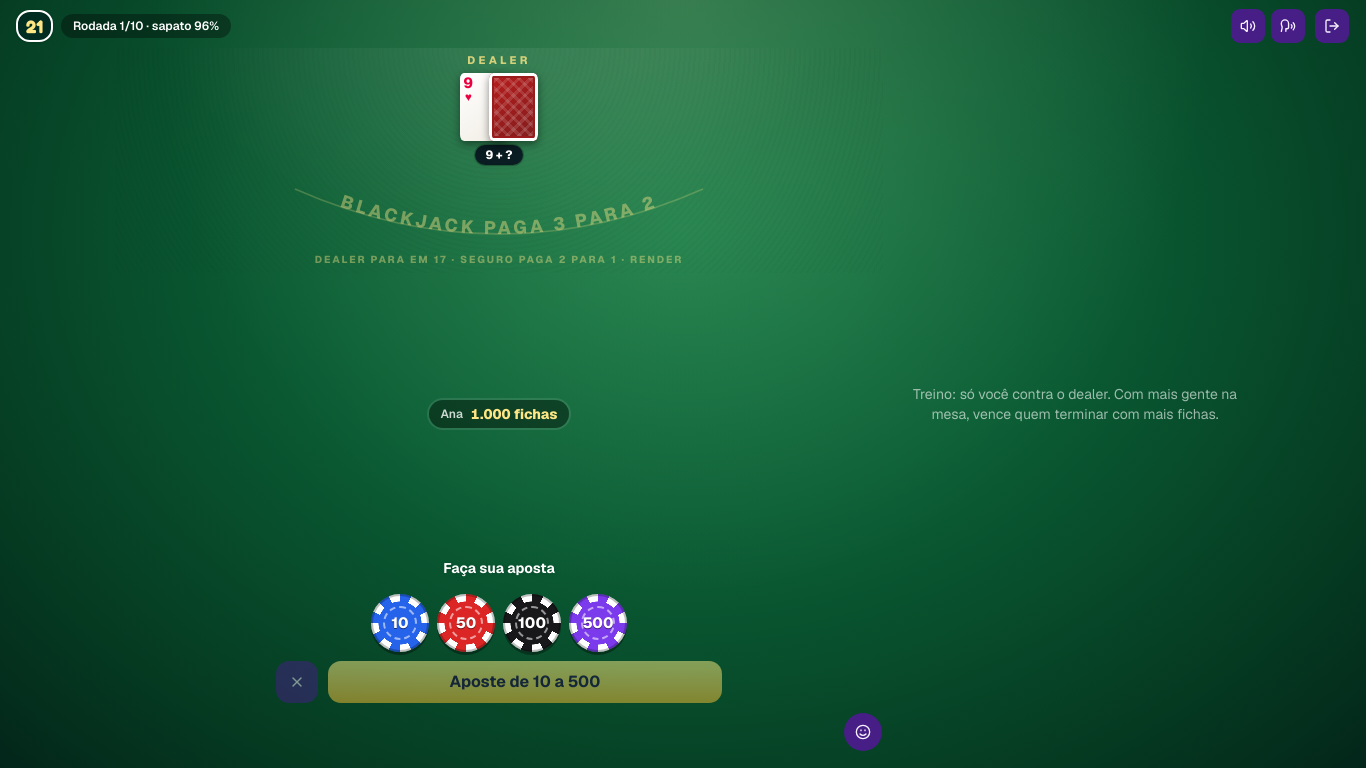
Test case: TableView › caps the bet at the table limit
Click the button named "Somar 500" at coordinates (598, 623), box [569,594,627,652]
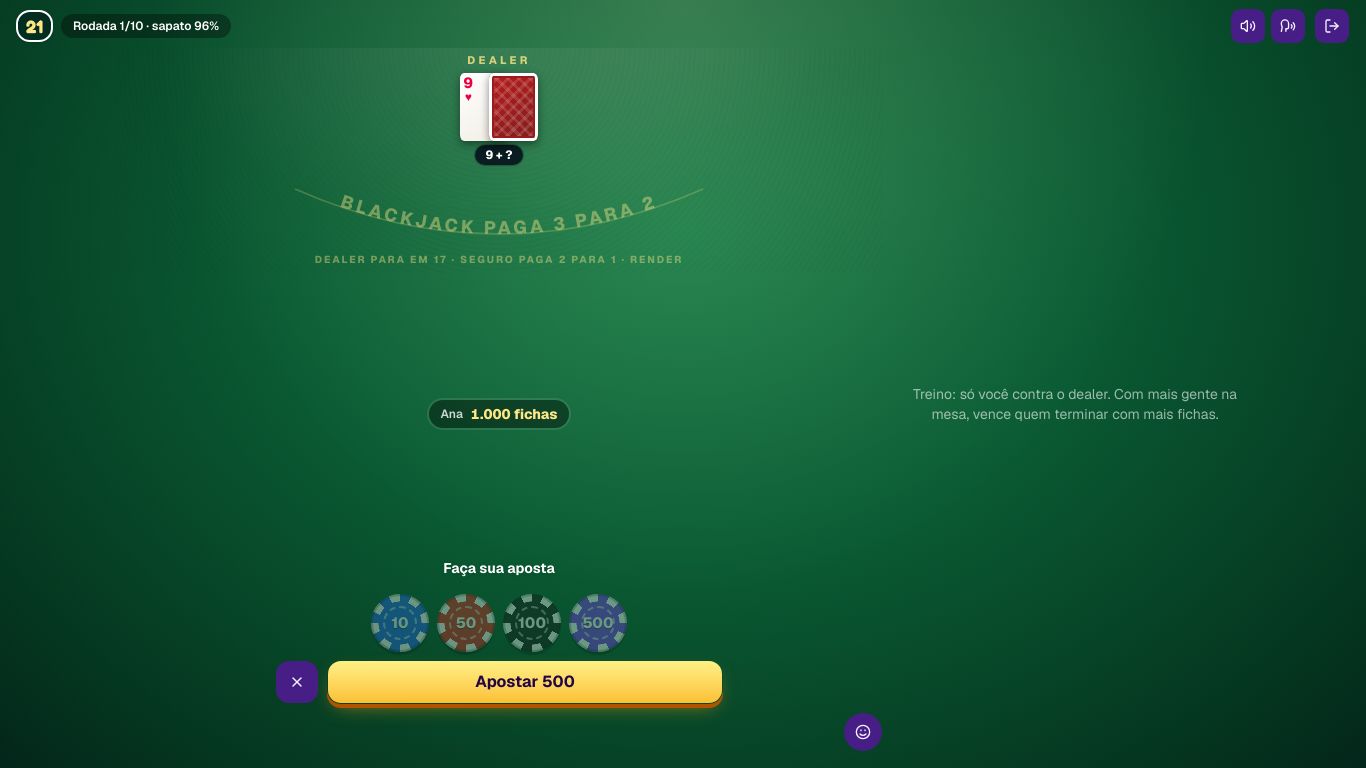
Check: the button "Apostar 500" is shown, box [327,660,723,704]
Check: the button named "Somar 10" is disabled, box [371,594,429,652]
